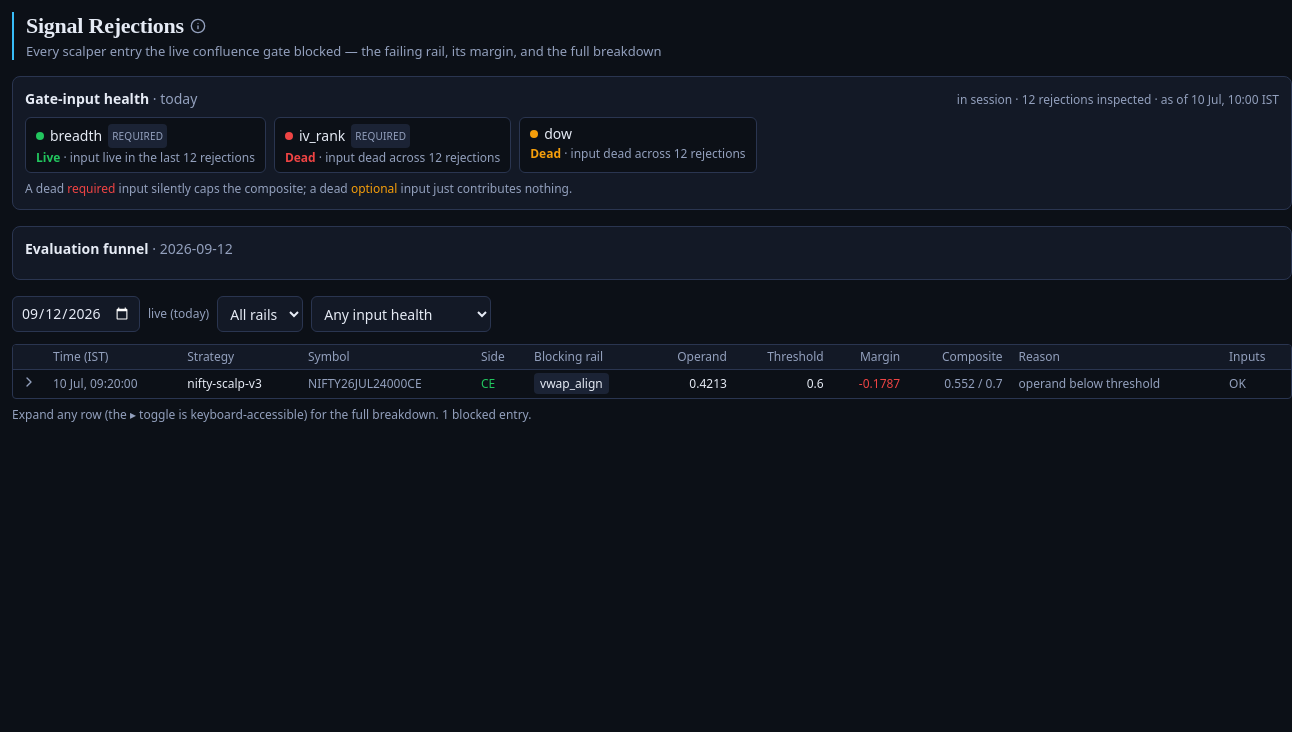
RejectionsPage main table (adopted onto DataTable) › gives each confluence dot a non-colour supports/opposes cue (WCAG 1.4.1)
Click the button named "Expand details" at (29, 382), box [21,374,37,390]
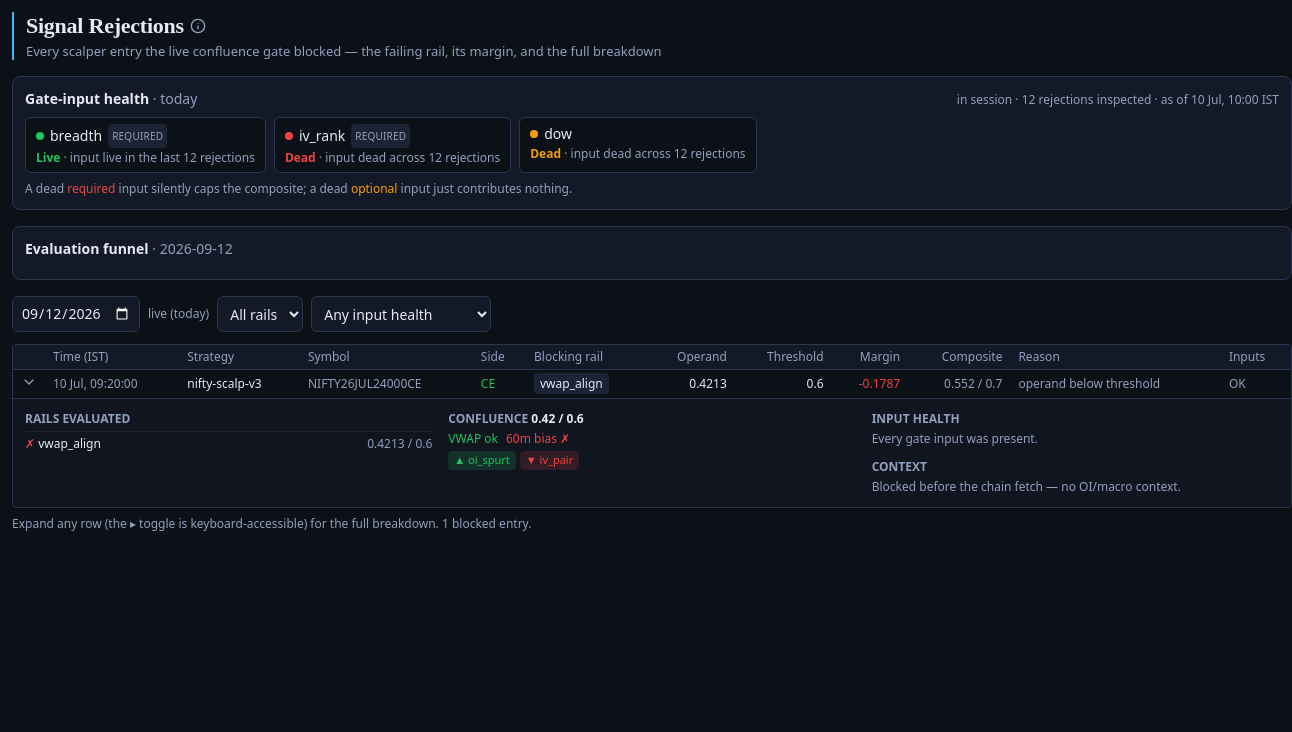
Result: the text "▲" is shown at [454,452,465,467]
Result: the text "▼" is shown at [526,452,537,467]
